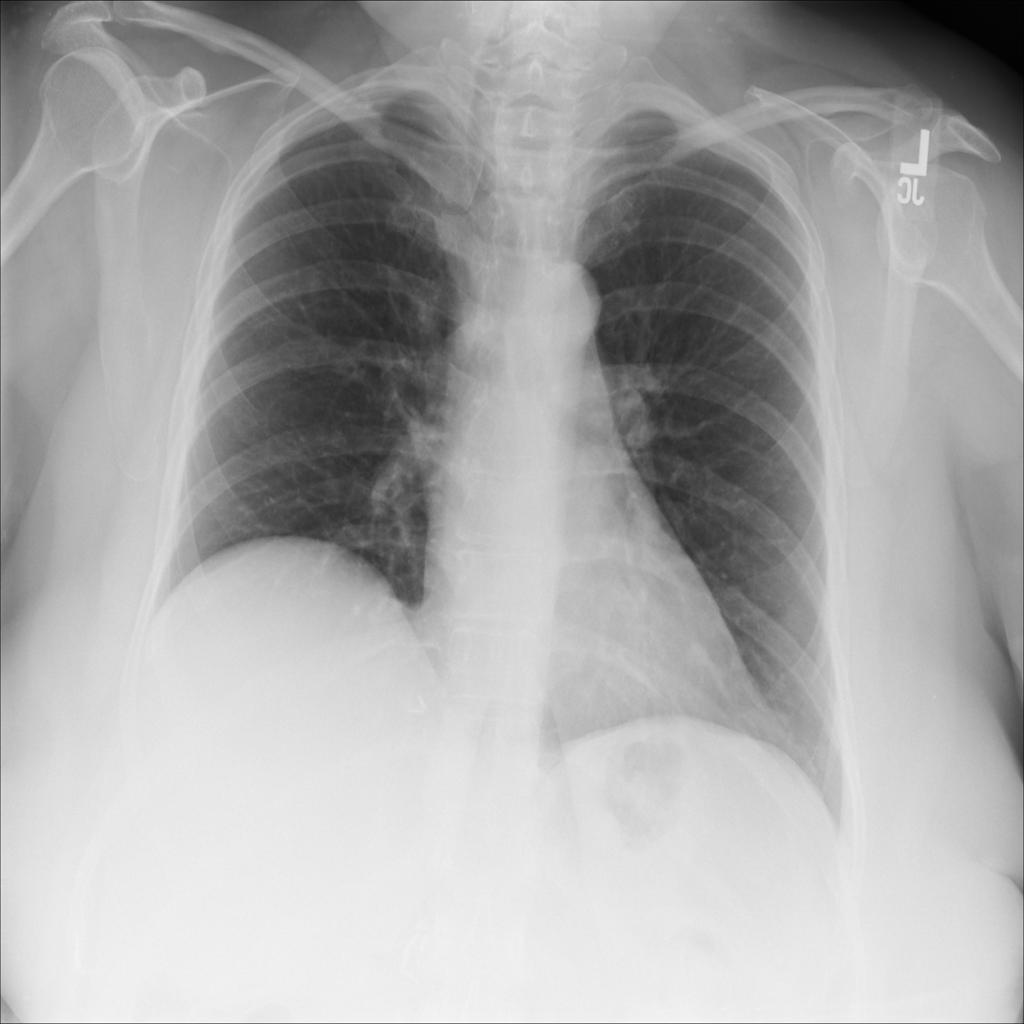nodule: (666, 619, 736, 687)
